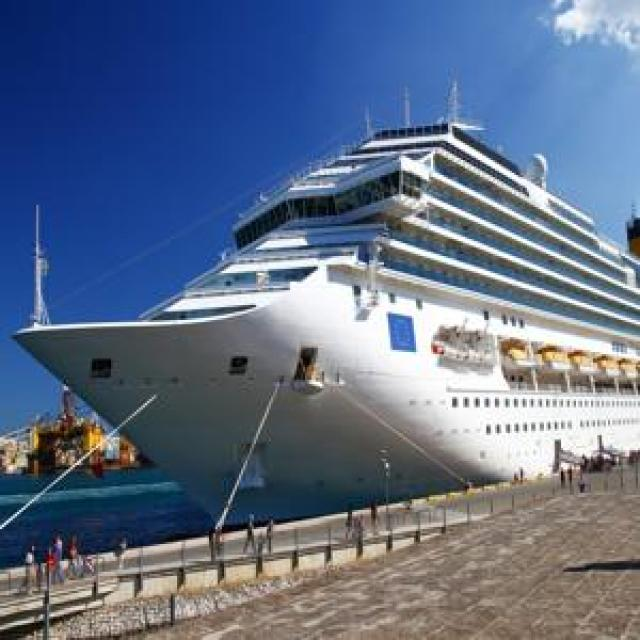passenger ship: (13, 115, 640, 489)
